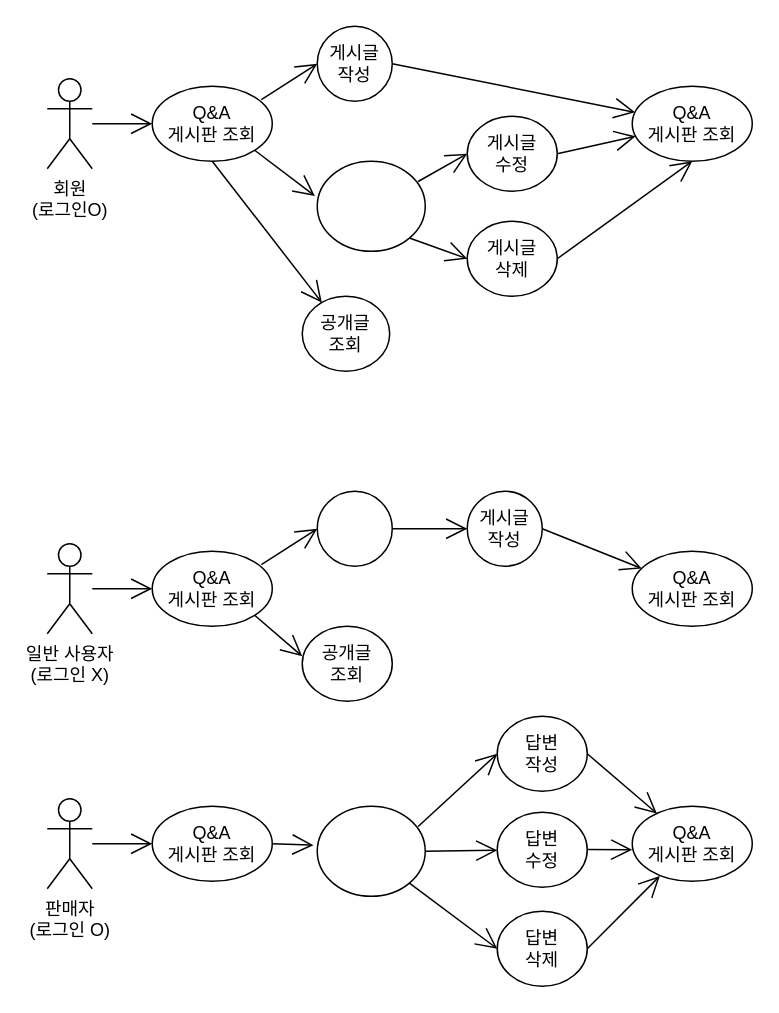
This 779x1013 diagram has some shape labels left out. Each missing label, with the centre of its shape:
"게시글 조회" belongs at [370,850].
"내 게시글 조회" belongs at [370,205].
"로그인" belongs at [354,528].
